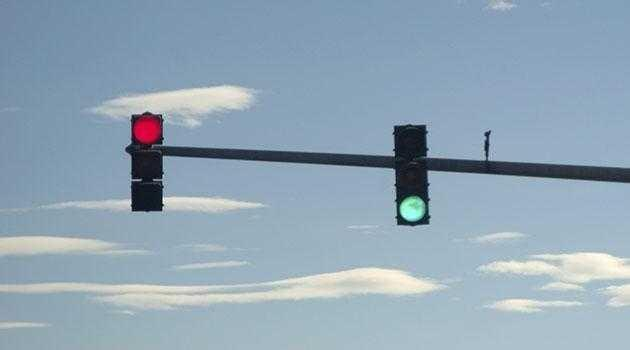2: (388, 112, 433, 230)
3: (130, 180, 167, 212), (393, 126, 427, 160), (394, 160, 429, 193), (128, 152, 167, 181)
5: (127, 112, 167, 148)
8: (129, 110, 168, 212)
red traffic light: (395, 193, 430, 228)
